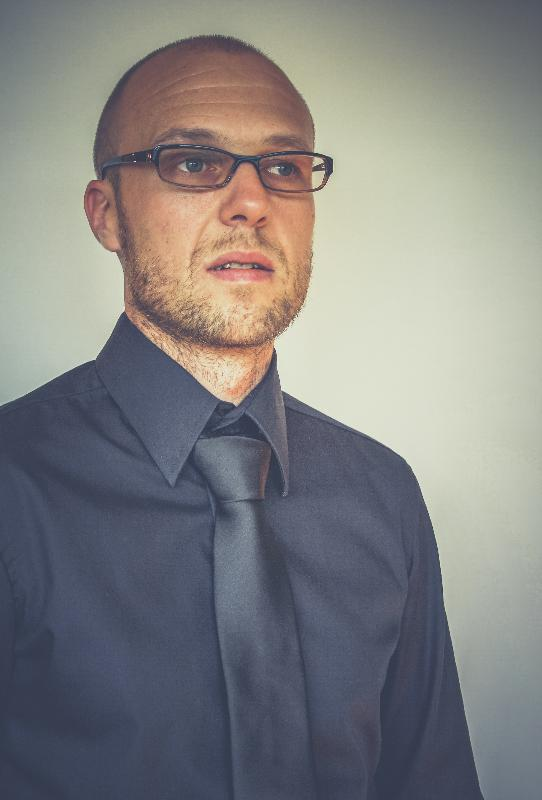Person: (5, 36, 486, 799)
